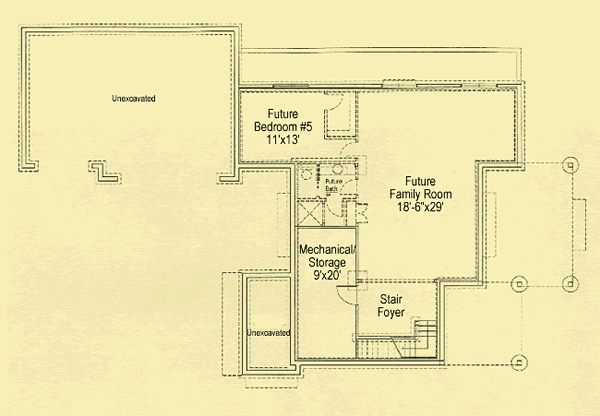door: (333, 284, 364, 309), (322, 90, 345, 114), (323, 198, 346, 221), (339, 137, 361, 158), (355, 201, 370, 225)
large sink: (299, 162, 317, 183)
small sink: (321, 163, 356, 177)
stairs: (353, 313, 443, 369)
windows: (379, 78, 418, 95), (271, 80, 309, 96), (458, 82, 500, 93)
